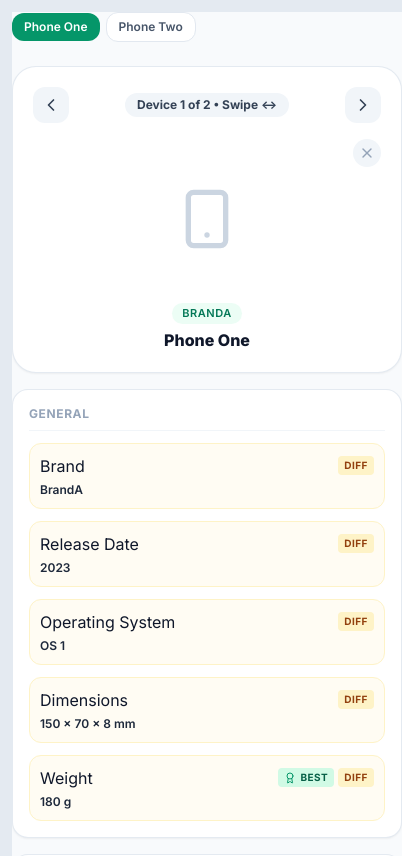
Test case: Mobile Comparison Swipe & View Mode › renders MobileComparisonSwipe and navigates between devices with Next and Prev buttons
Expected: the text "Device 1 of 2 • Swipe ↔" is shown, [125,93,289,117]
Expected: the link "Phone One" is shown, [164,328,250,352]
Click Next
Click the button named "Next smartphone".
click(363, 105)  # box [345,87,381,123]
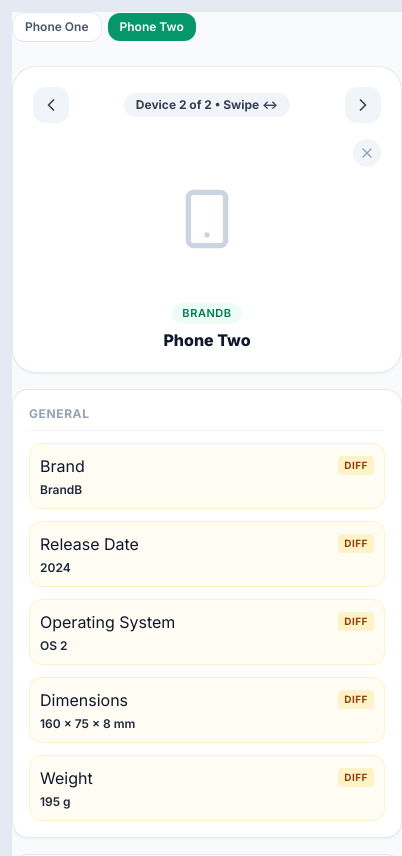
Result: the text "Device 2 of 2 • Swipe ↔" is shown at [124,93,290,117]
Result: the link "Phone Two" is shown at [163,328,250,352]
Click Prev
Click the button named "Previous smartphone".
click(51, 105)  # box [33,87,69,123]
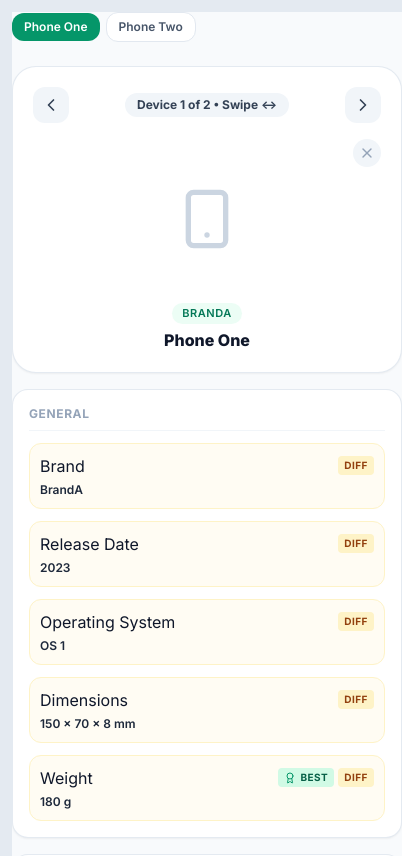
Result: the text "Device 1 of 2 • Swipe ↔" is shown at [125,93,289,117]
Result: the link "Phone One" is shown at [164,328,250,352]
